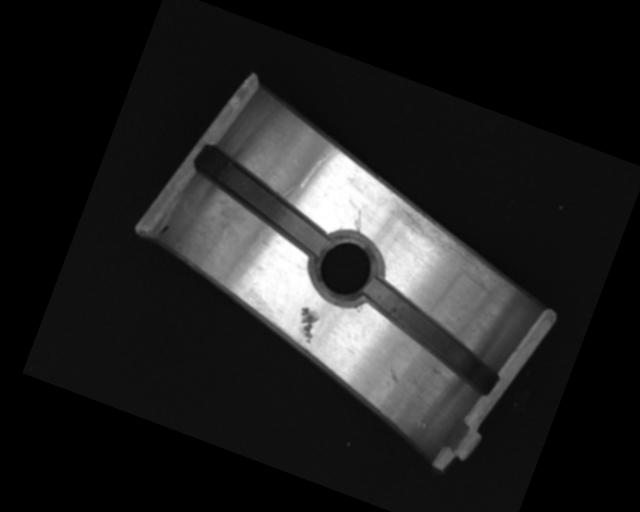blot: (157, 222, 170, 238)
bruise: (290, 304, 323, 345), (383, 366, 402, 389), (415, 419, 430, 431)
gap: (346, 273, 518, 397), (178, 141, 345, 261)
hole: (301, 223, 389, 312)
nick: (298, 139, 340, 197), (351, 208, 367, 233)
scratch: (372, 183, 536, 306)
